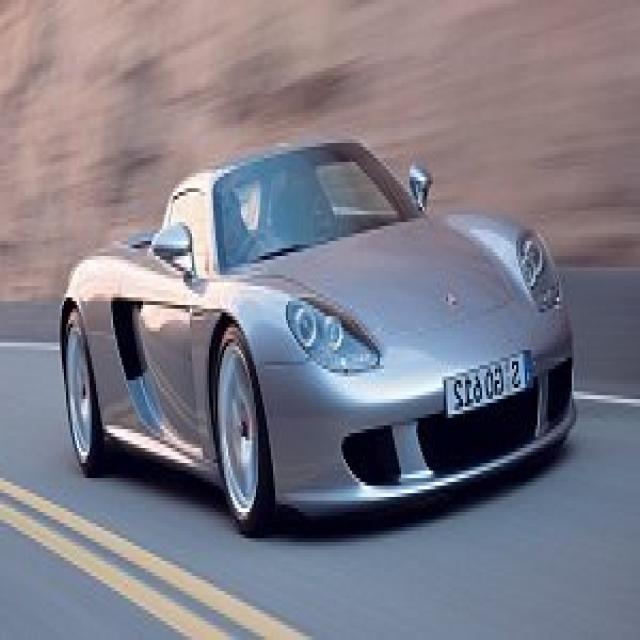car: (60, 136, 578, 534)
